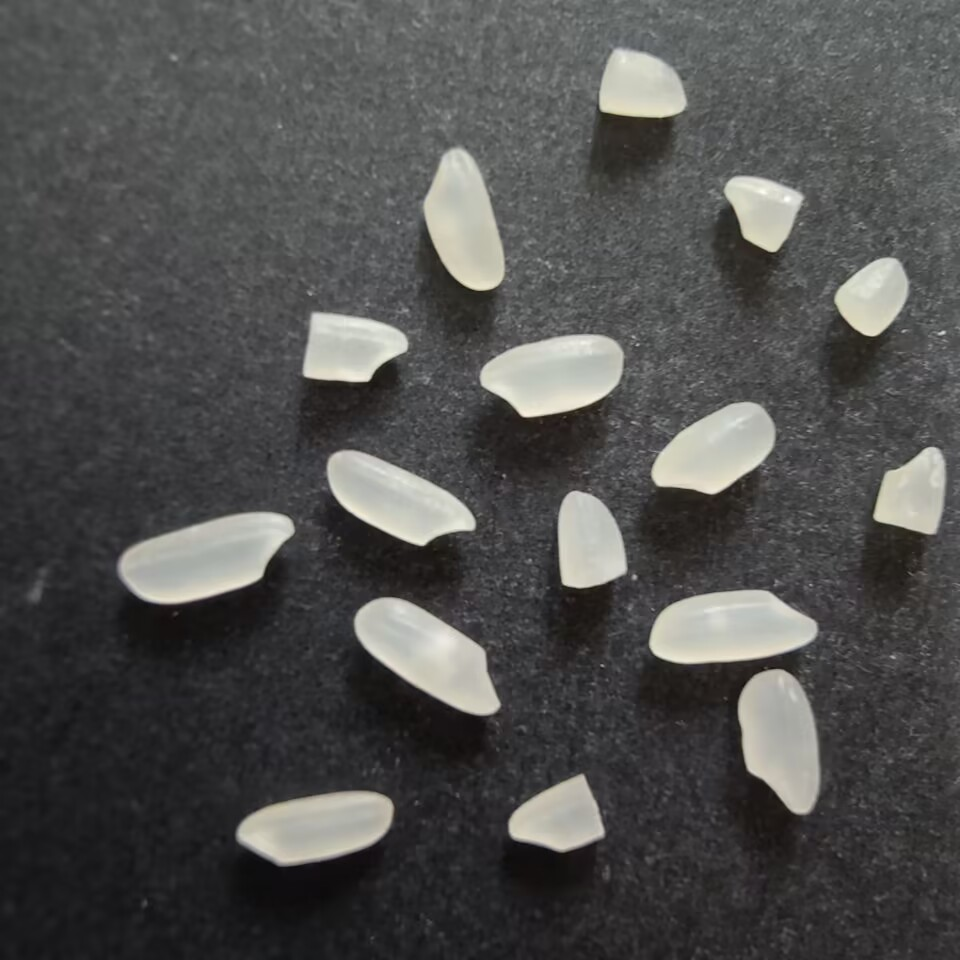broken: (296, 307, 414, 387), (503, 771, 606, 855), (864, 442, 947, 541), (555, 487, 632, 592), (594, 47, 686, 127), (830, 254, 911, 340), (721, 174, 807, 253)
rice: (352, 595, 502, 722), (110, 508, 293, 607), (319, 446, 482, 551), (646, 584, 822, 667), (733, 664, 825, 815), (231, 785, 394, 870), (475, 330, 629, 418), (418, 145, 507, 293), (646, 399, 779, 494)
